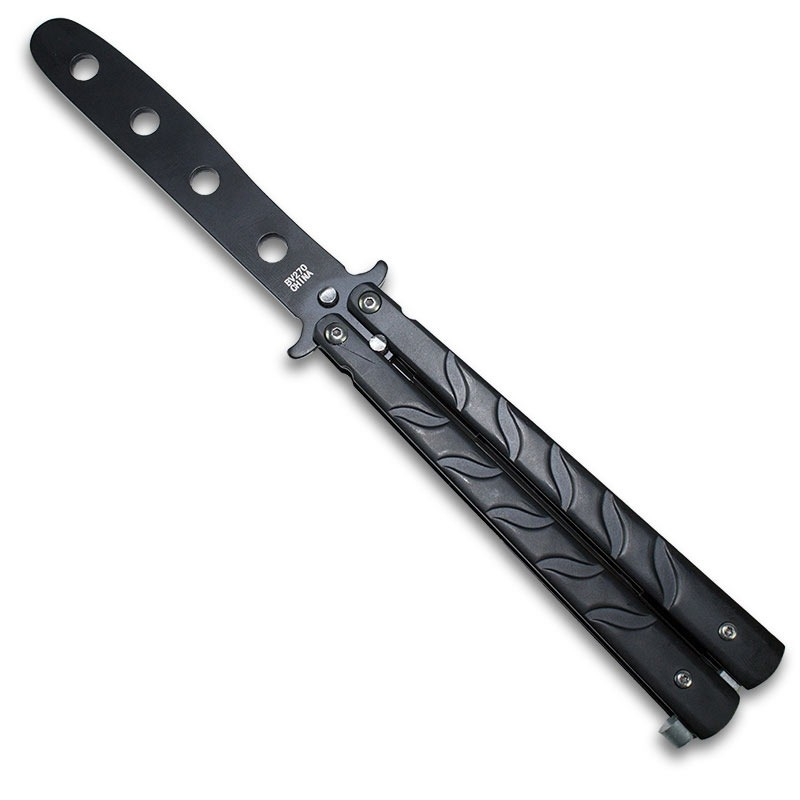knife: (26, 15, 788, 753)
